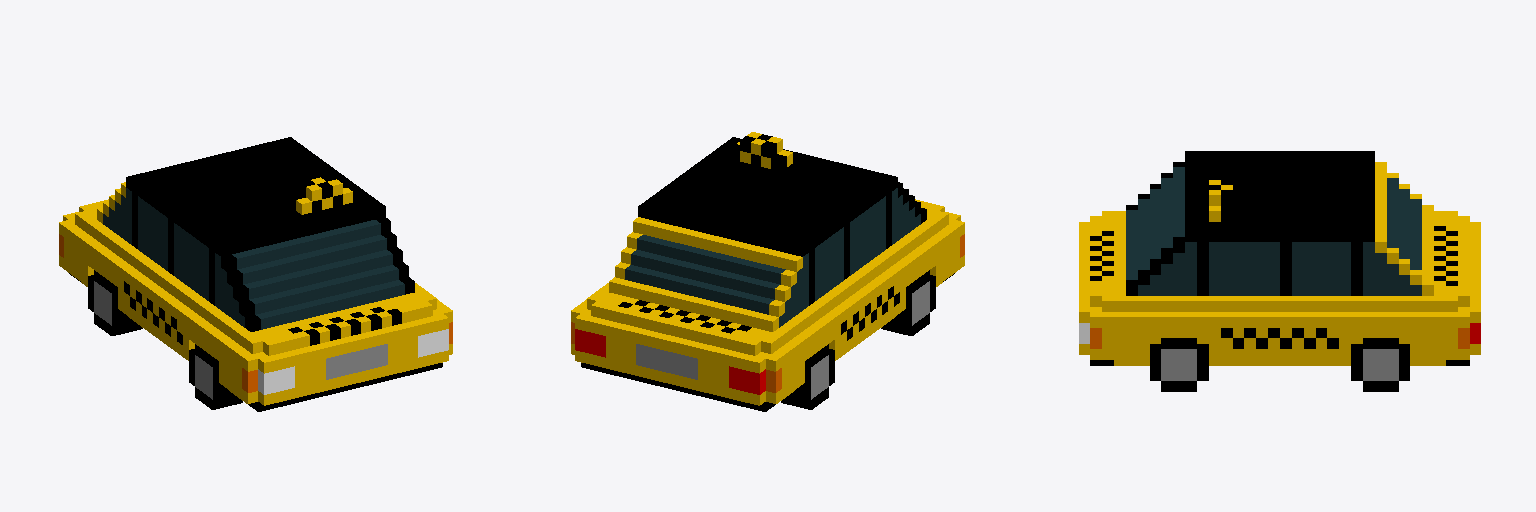
The picture shows the model from 3 angles: view 1: azimuth 30°, elevation 25°; view 2: azimuth 150°, elevation 25°; view 3: azimuth 270°, elevation 25°; orthographic projection.
Parts seen in each view (by area): view 1: object 1; view 2: object 1; view 3: object 1.
Boxes of the visible parts, <box> form: object 1: <box>59,137,452,411</box>; object 1: <box>571,132,964,411</box>; object 1: <box>1079,151,1480,391</box>.
Size of the model in its own units: 2 by 1.6 by 3.4.
1 materials, 1 textured.